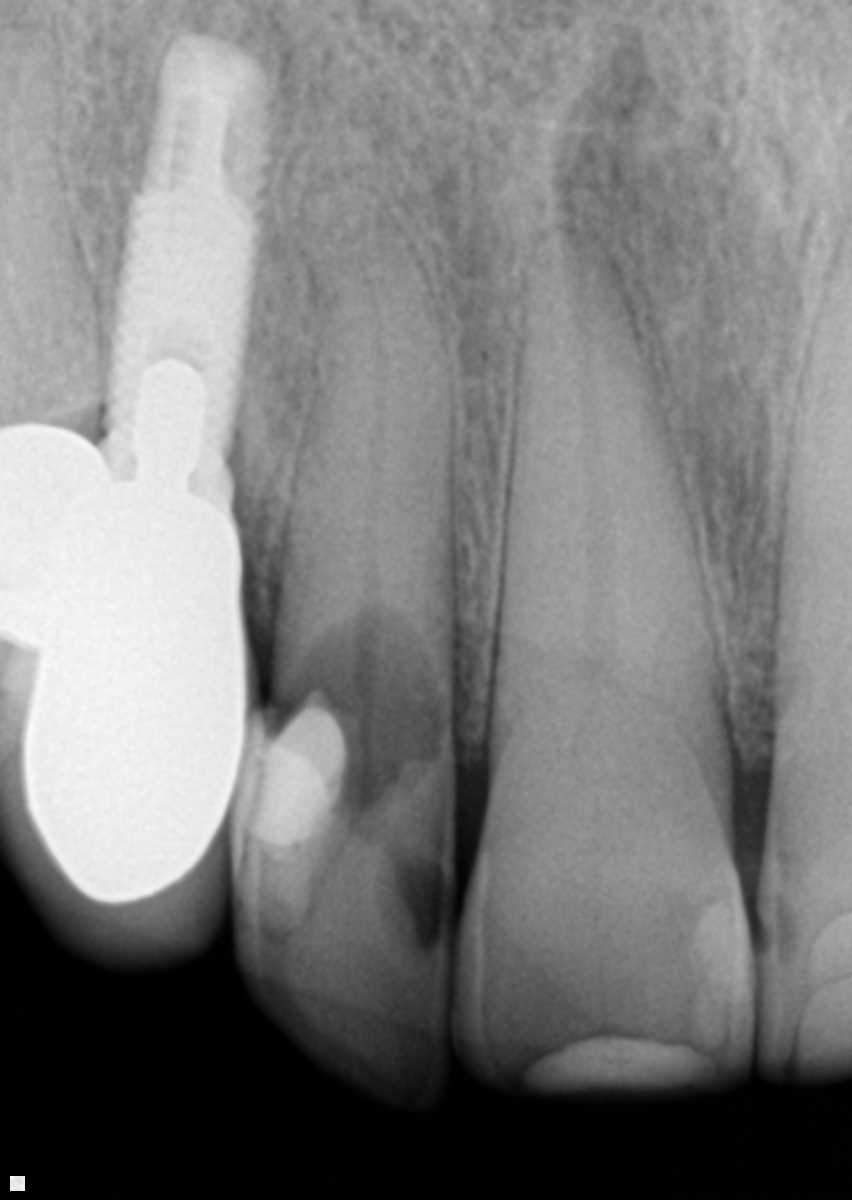Main Canal: (564, 244, 630, 749), (334, 200, 388, 752)
Main Root: (488, 226, 732, 754), (265, 175, 457, 741), (0, 0, 109, 418), (768, 238, 852, 744)
decay: (271, 599, 442, 827), (399, 861, 457, 952)
